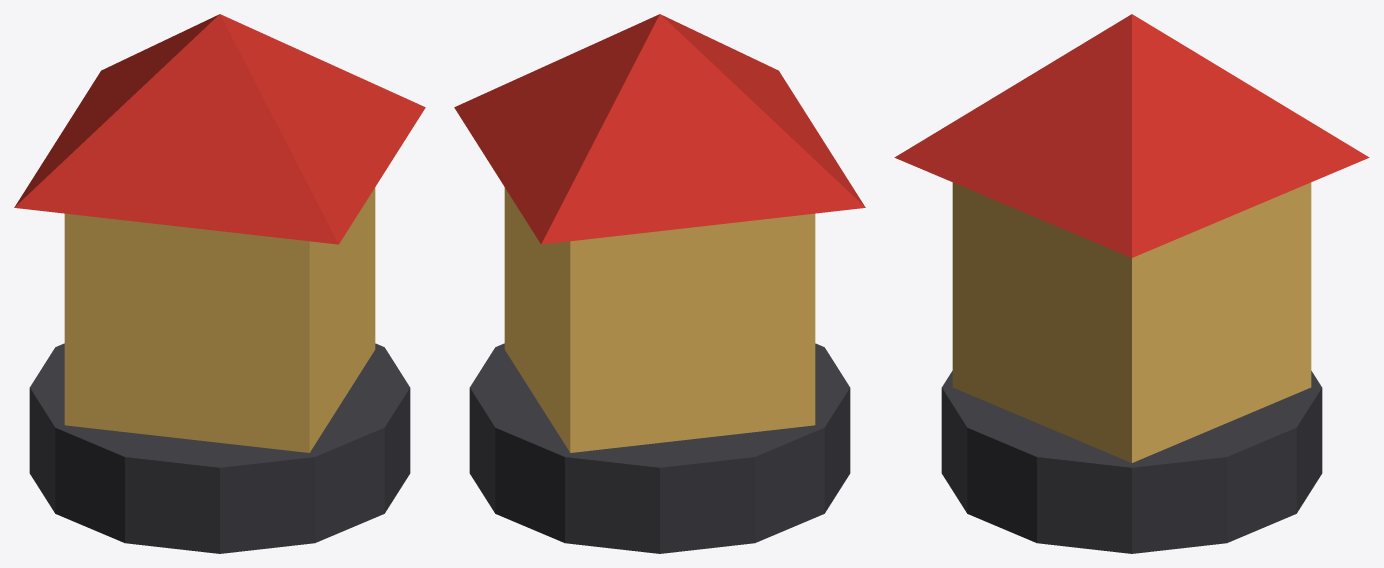
The model's file is lantern.glb.
The picture shows the model from 3 angles, left to right: view 1: azimuth 30°, elevation 25°; view 2: azimuth 150°, elevation 25°; view 3: azimuth 270°, elevation 25°; orthographic projection.
Visible parts, largest first — view 1: body, roof, base; view 2: body, roof, base; view 3: body, roof, base.
Boxes of the visible parts, box(x1,y1,x2,y2) form: body: box(64, 187, 375, 452); roof: box(14, 14, 425, 244); base: box(29, 343, 410, 553); body: box(504, 187, 815, 452); roof: box(454, 14, 865, 244); base: box(469, 343, 850, 553); body: box(952, 182, 1311, 462); roof: box(894, 14, 1369, 257); base: box(941, 371, 1322, 553).
Bounding box in the file's own units: 1.5 × 1.6 × 1.5.
